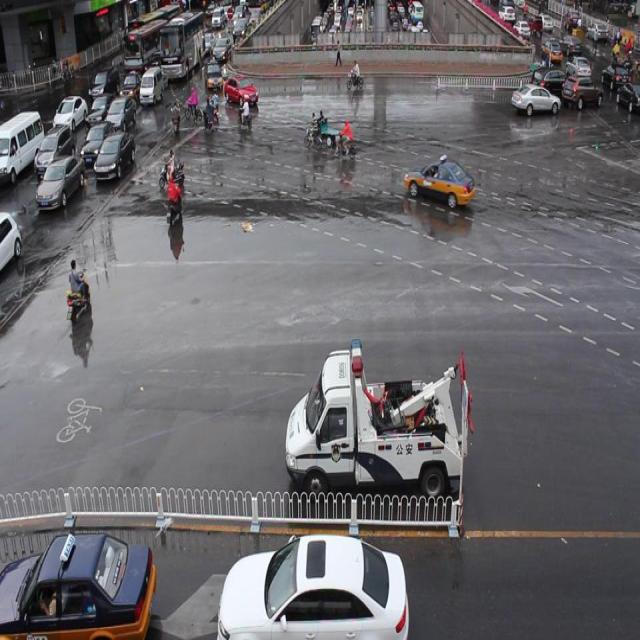bus: (285, 338, 464, 498)
car: (403, 158, 474, 208), (510, 82, 559, 117), (223, 73, 259, 108)
